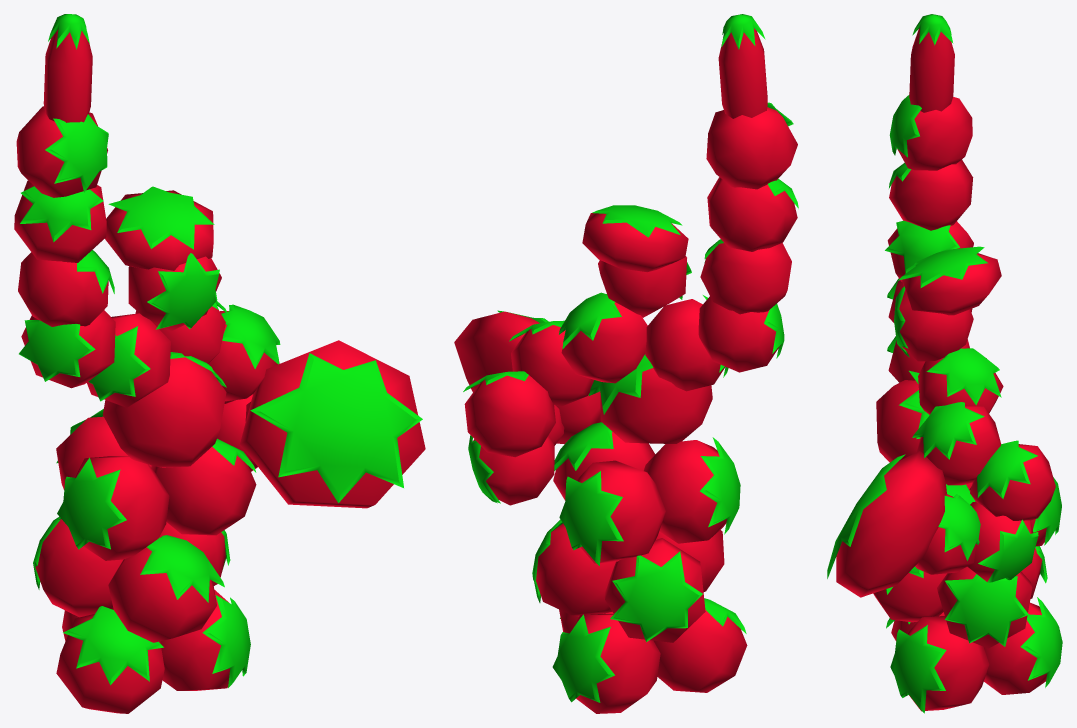
File: tomato_of_liberty.glb
The picture shows the model from 3 angles, left to right: view 1: azimuth 30°, elevation 25°; view 2: azimuth 150°, elevation 25°; view 3: azimuth 270°, elevation 25°; orthographic projection. The views are drawn at different scales.
Visible parts, largest first — view 1: tomato.011; view 2: tomato.011; view 3: tomato.011.
Part boxes in pixels (<box>): tomato.011: <box>14,14,425,713</box>; tomato.011: <box>454,14,798,713</box>; tomato.011: <box>827,14,1062,713</box>.
Size of what is drawn, in the model's own units: 14.3 by 26.3 by 8.81.
